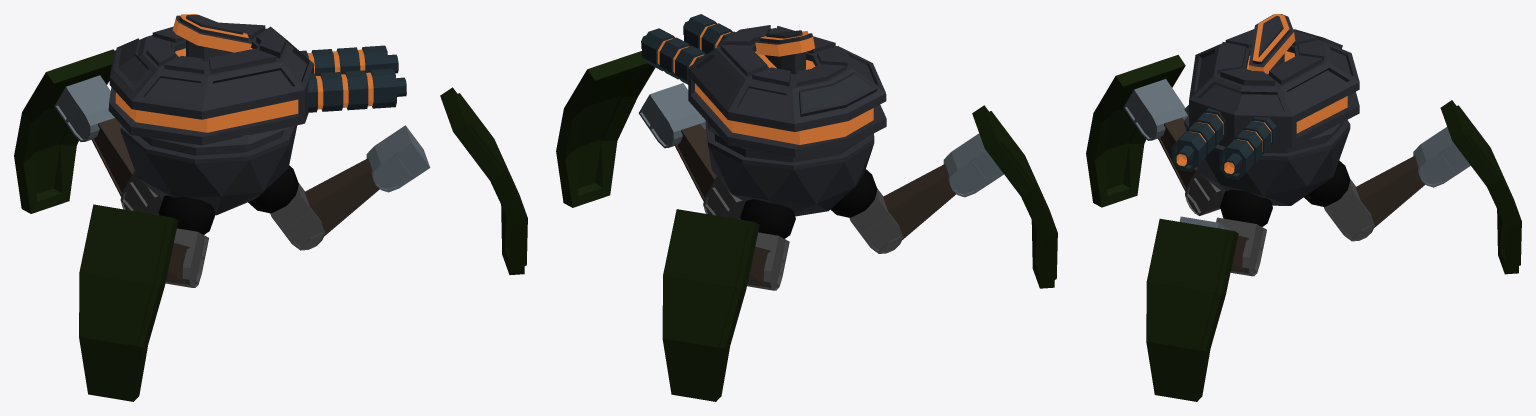
Rendered from SIngle Moduler Vehicles.glb.
3 renders of one model, left to right at view 1: azimuth 30°, elevation 25°; view 2: azimuth 150°, elevation 25°; view 3: azimuth 270°, elevation 25°, orthographic. The views are drawn at different scales.
Parts seen in each view (by area): view 1: Cube017, Plane006, Icosphere003, Plane007, Cube023_1 (×2), Plane005, Cube017_1, Cylinder020, Cube023, Cube027, Cube022, Cylinder022 (+7 smaller); view 2: Cube017, Plane007, Plane005, Icosphere003, Plane006, Cube017_1, Cube023_1 (×2), Cylinder021, Cube023, Cube025, Cube024, Cylinder020 (+6 smaller); view 3: Cube017, Plane005, Plane006, Icosphere003, Plane007, Cube023_1 (×2), Cylinder022, Cube025, Cube027, Cube017_1, Cube026, Icosphere004 (+6 smaller).
Boxes of the visible parts, x1,y1,x2,y2 form: Cube017: (108, 14, 313, 145); Plane006: (79, 204, 178, 401); Icosphere003: (120, 125, 297, 215); Plane007: (14, 49, 114, 213); Cube023_1 (×2): (300, 45, 406, 112); Plane005: (440, 87, 527, 274); Cube017_1: (115, 14, 298, 132); Cylinder020: (304, 152, 398, 235); Cube023: (366, 125, 430, 192); Cube027: (54, 75, 114, 141); Cube022: (270, 183, 325, 250); Cylinder022: (92, 118, 154, 208); Cube017: (688, 25, 886, 157); Plane007: (662, 209, 759, 401); Plane005: (556, 51, 655, 207); Icosphere003: (705, 120, 874, 216); Plane006: (972, 105, 1057, 288); Cube017_1: (695, 31, 873, 144); Cube023_1 (×2): (641, 14, 735, 84); Cylinder021: (883, 158, 974, 239); Cube023: (638, 83, 706, 148); Cube025: (943, 133, 1003, 197); Cube024: (849, 188, 903, 253); Cylinder020: (675, 124, 735, 213); Cube017: (1189, 16, 1359, 148); Plane005: (1146, 218, 1238, 401); Plane006: (1086, 54, 1185, 207); Icosphere003: (1184, 105, 1350, 205); Plane007: (1440, 100, 1521, 274); Cube023_1 (×2): (1171, 108, 1276, 179); Cylinder022: (1355, 150, 1443, 227); Cube025: (1123, 79, 1187, 140); Cube027: (1413, 127, 1470, 187); Cube017_1: (1246, 14, 1347, 133); Cube026: (1324, 179, 1374, 241); Icosphere004: (1220, 189, 1272, 226).
Bounding box in the file's own units: 6.11 × 3.4 × 5.24.
Materials: 3 (3 with a texture image).
